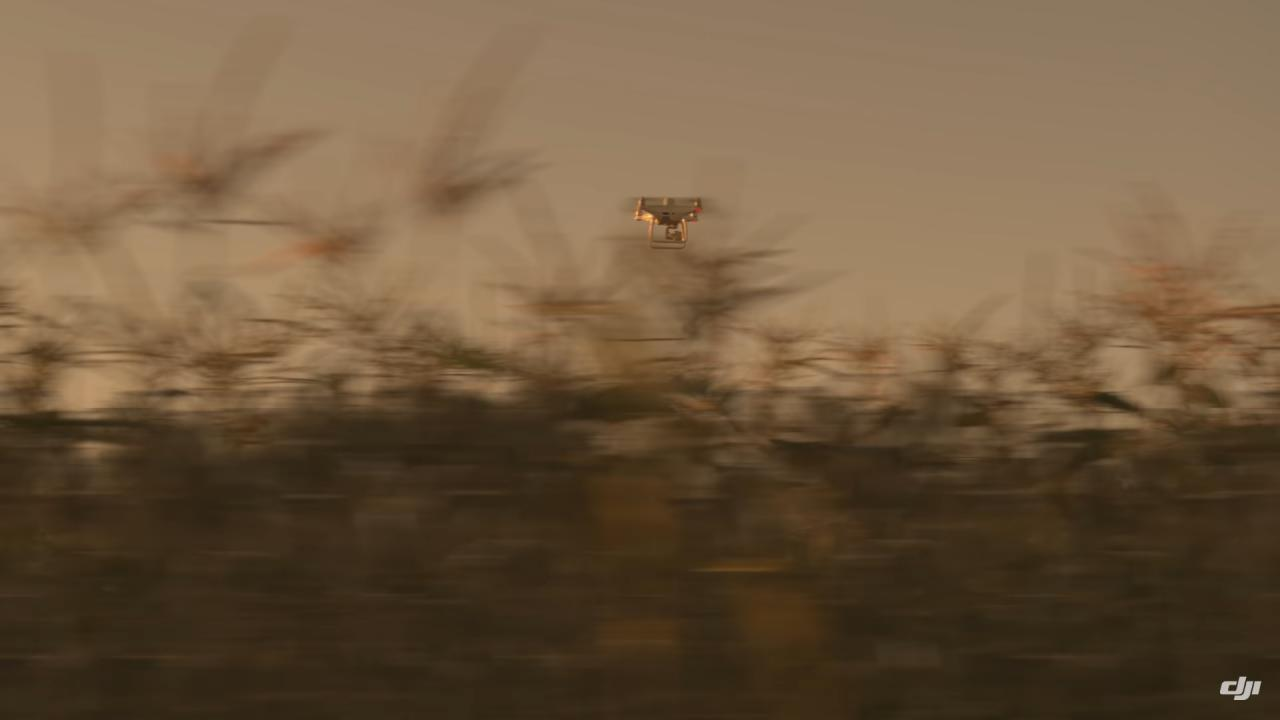Drone: (618, 181, 718, 258)
